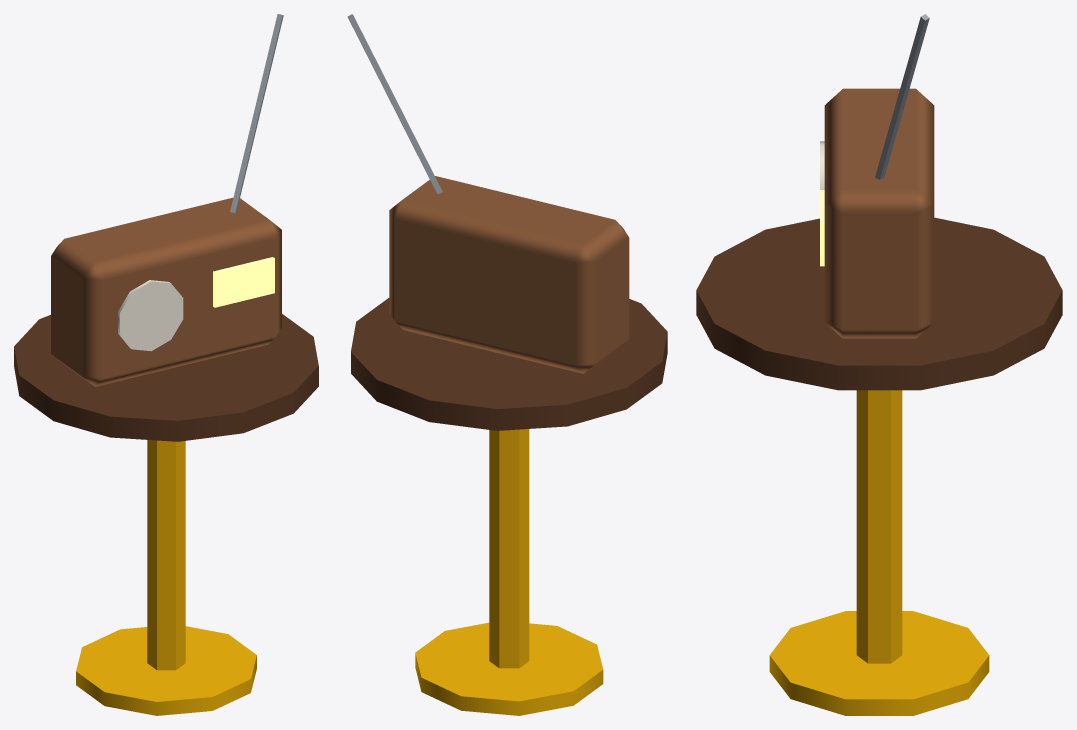
The model's file is station_intake_ausstattung_2_1.glb.
3 views of the same model, side by side, from view 1: azimuth 30°, elevation 25°; view 2: azimuth 150°, elevation 25°; view 3: azimuth 270°, elevation 25° (orthographic). The views are drawn at different scales.
Visible parts, largest first — view 1: station_intake_ausstattung_2_1; view 2: station_intake_ausstattung_2_1; view 3: station_intake_ausstattung_2_1.
Part boxes in pixels (x1,y1,x2,y2): station_intake_ausstattung_2_1: (14,14,318,715); station_intake_ausstattung_2_1: (347,14,667,715); station_intake_ausstattung_2_1: (696,14,1062,715).
Size of the model in its own units: 0.3996 by 0.8839 by 0.4.
